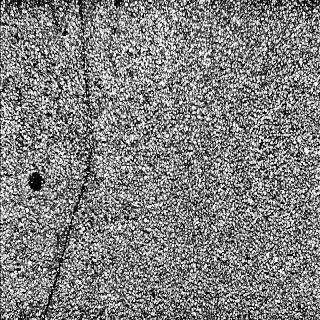crack: (44, 2, 99, 320)
